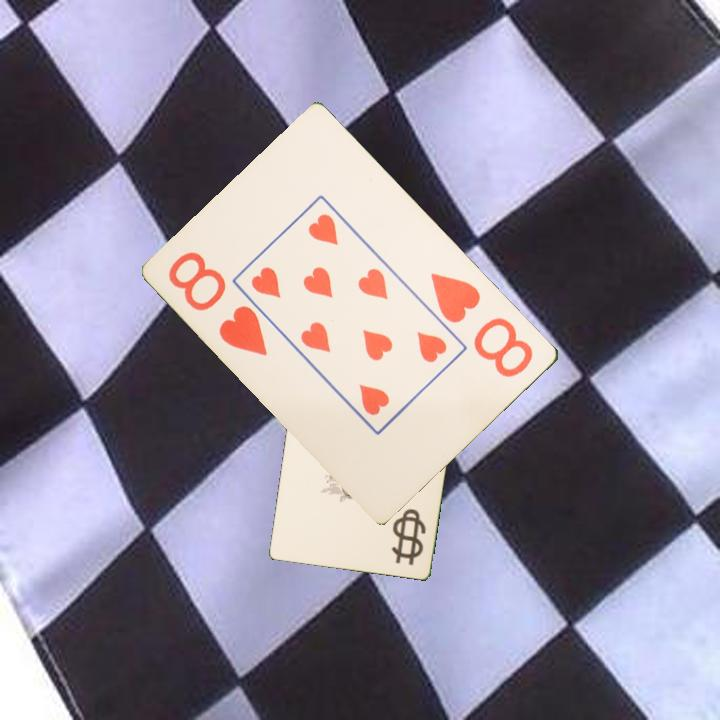8h: (427, 268, 537, 381), (165, 248, 271, 359)
JK: (391, 505, 429, 568)
